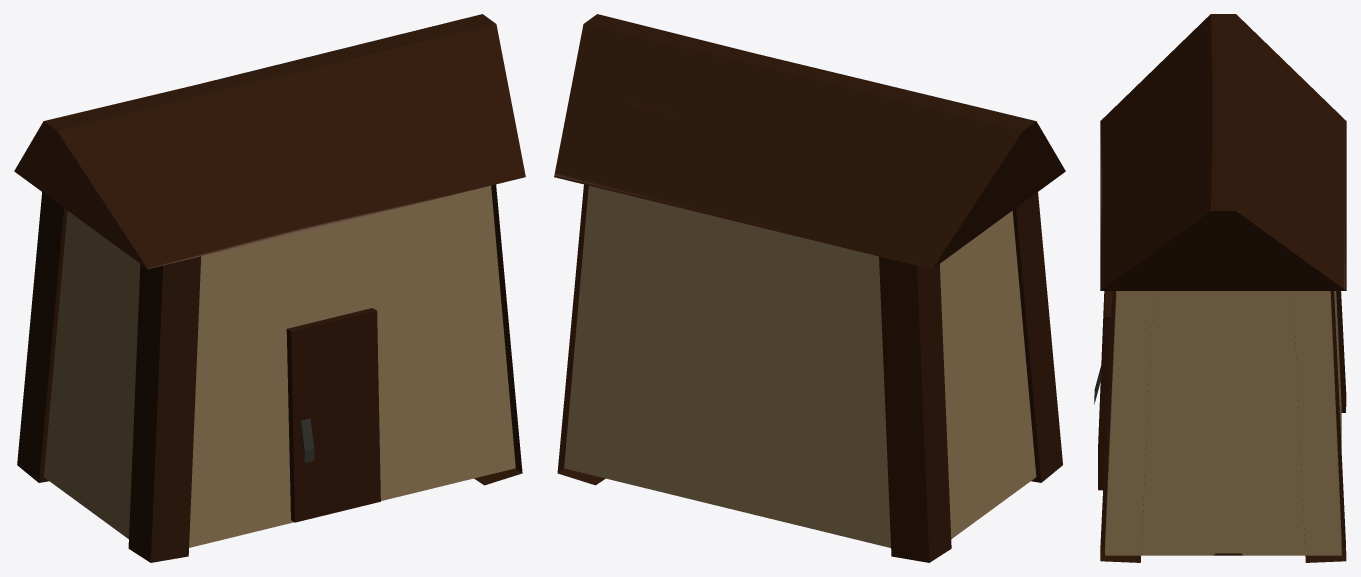
Rendered from shack.glb.
3 renders of one model, left to right at view 1: azimuth 30°, elevation 25°; view 2: azimuth 150°, elevation 25°; view 3: azimuth 270°, elevation 25°, orthographic. The views are drawn at different scales.
Visible parts, largest first — view 1: shack, verticalFrame, door, verticalFrame.003, verticalFrame.001; view 2: shack, verticalFrame.003, verticalFrame, verticalFrame.002; view 3: shack, verticalFrame.001, door, verticalFrame.002, verticalFrame.003.
Boxes of the visible parts, left/top/right/bottom form: shack: left=14, top=14, right=525, bottom=547; verticalFrame: left=128, top=256, right=201, bottom=562; door: left=286, top=308, right=380, bottom=522; verticalFrame.003: left=17, top=192, right=67, bottom=482; verticalFrame.001: left=474, top=184, right=522, bottom=485; shack: left=554, top=14, right=1065, bottom=547; verticalFrame.003: left=879, top=256, right=951, bottom=562; verticalFrame: left=1012, top=192, right=1062, bottom=482; verticalFrame.002: left=557, top=184, right=605, bottom=485; shack: left=1100, top=14, right=1346, bottom=555; verticalFrame.001: left=1100, top=291, right=1153, bottom=562; door: left=1098, top=291, right=1112, bottom=490; verticalFrame.002: left=1293, top=291, right=1346, bottom=562; verticalFrame.003: left=1336, top=291, right=1346, bottom=412.
Size of the model in its own units: 15.77 by 13.79 by 8.53.
Materials: 4 (3 with a texture image).
